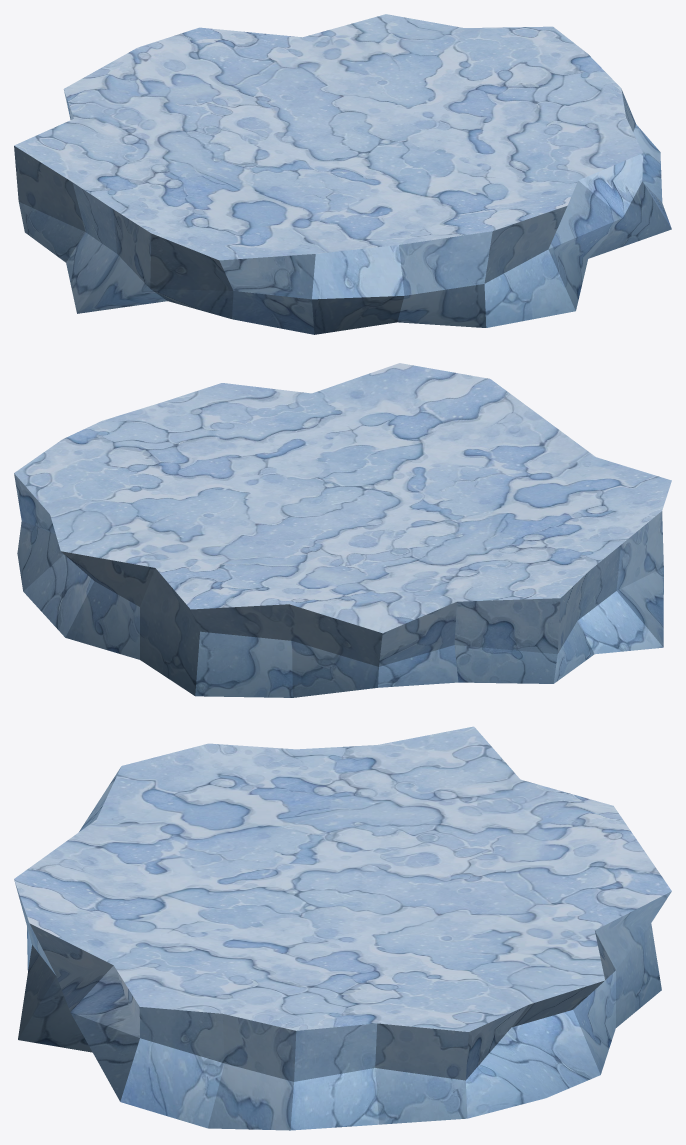
The model's file is ice_floe_a.glb.
3 renders of one model, top to bottom at view 1: azimuth 30°, elevation 25°; view 2: azimuth 150°, elevation 25°; view 3: azimuth 270°, elevation 25°, orthographic. The views are drawn at different scales.
Visible parts, largest first — view 1: ice_floe_a; view 2: ice_floe_a; view 3: ice_floe_a.
Boxes of the visible parts, x1,y1,x2,y2 form: ice_floe_a: (14, 14, 671, 334); ice_floe_a: (14, 363, 671, 697); ice_floe_a: (14, 726, 671, 1130).
Bounding box in the file's own units: 7.4 × 1.26 × 6.44.
1 material, 1 textured.
